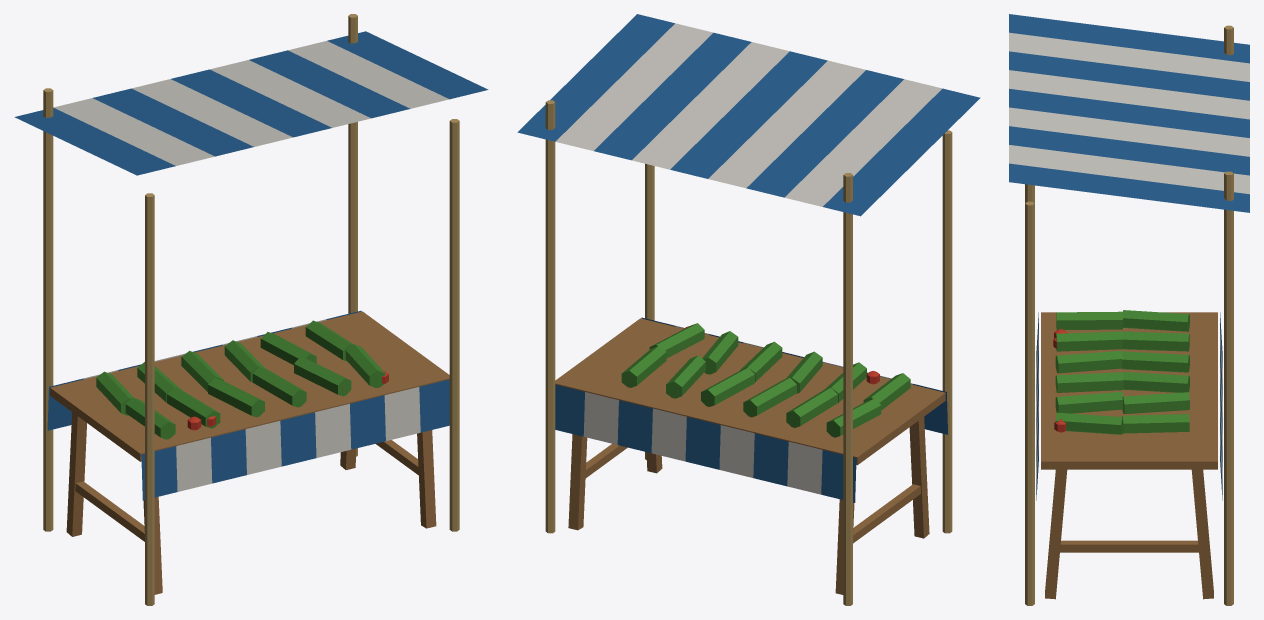
File: sap_rau.glb
3 renders of one model, left to right at view 1: azimuth 30°, elevation 25°; view 2: azimuth 150°, elevation 25°; view 3: azimuth 270°, elevation 25°, orthographic. The views are drawn at different scales.
Visible parts, largest first — view 1: sap_rau; view 2: sap_rau; view 3: sap_rau.
Part boxes in pixels (box(x1,y1,x2,y2)): sap_rau: box(14, 14, 488, 605); sap_rau: box(517, 14, 980, 605); sap_rau: box(1009, 14, 1249, 605).
Size of the model in its own units: 1.8 by 2.16 by 1.09.
